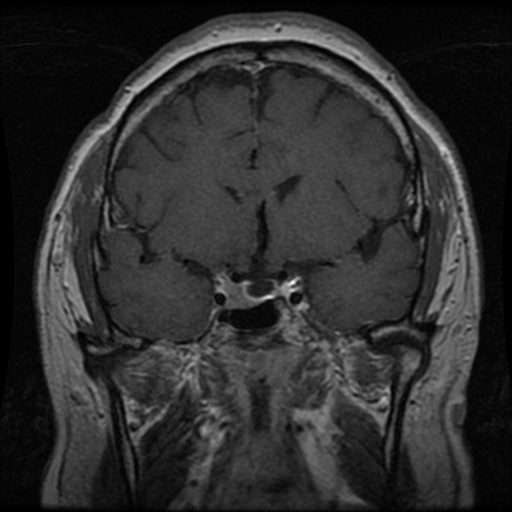pituitary: (213, 273, 264, 310)
